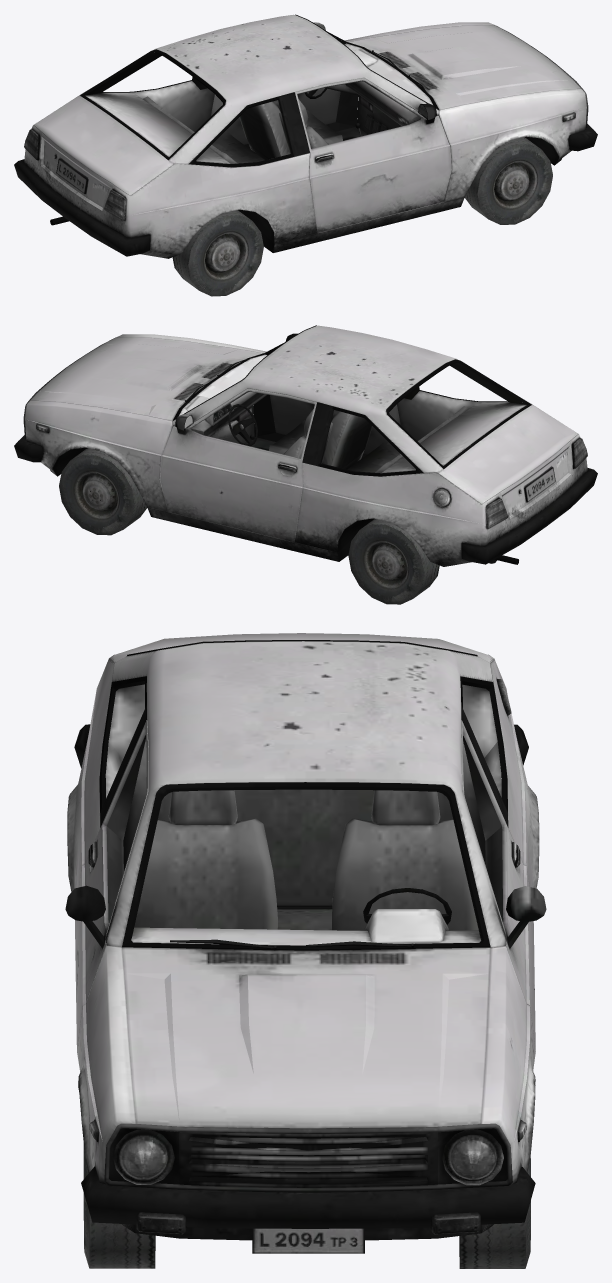
The model's file is size-2-car.glb.
3 renders of one model, top to bottom at view 1: azimuth 30°, elevation 25°; view 2: azimuth 150°, elevation 25°; view 3: azimuth 270°, elevation 25°, orthographic. The views are drawn at different scales.
Visible parts, largest first — view 1: DrawCall_1589, DrawCall_1588, DrawCall_1573; view 2: DrawCall_1589, DrawCall_1588, DrawCall_1573; view 3: DrawCall_1589, DrawCall_1588, DrawCall_1573, DrawCall_1590.
Part boxes in pixels (box(x1,y1,x2,y2)): DrawCall_1589: box(14, 14, 597, 258); DrawCall_1588: box(85, 38, 436, 163); DrawCall_1573: box(172, 99, 552, 296); DrawCall_1589: box(14, 325, 597, 566); DrawCall_1588: box(179, 333, 526, 473); DrawCall_1573: box(59, 448, 439, 604); DrawCall_1589: box(67, 633, 539, 1253); DrawCall_1588: box(65, 684, 503, 948); DrawCall_1573: box(83, 1143, 530, 1268); DrawCall_1590: box(506, 886, 546, 948).
Size of the model in its own units: 18.97 by 6.79 by 8.13.
Materials: 5 (4 with a texture image).
